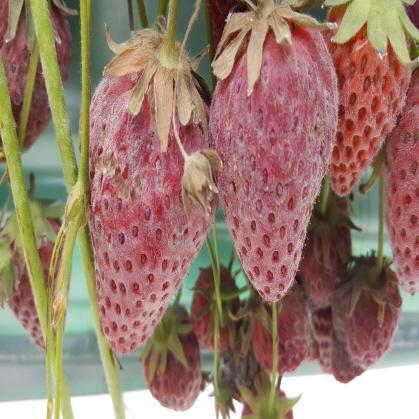Powdery Mildew Fruit: (79, 24, 219, 355), (208, 6, 337, 303), (322, 0, 414, 196), (0, 0, 72, 160), (381, 61, 418, 295)
